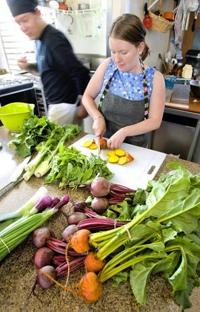person: (82, 11, 165, 149)
